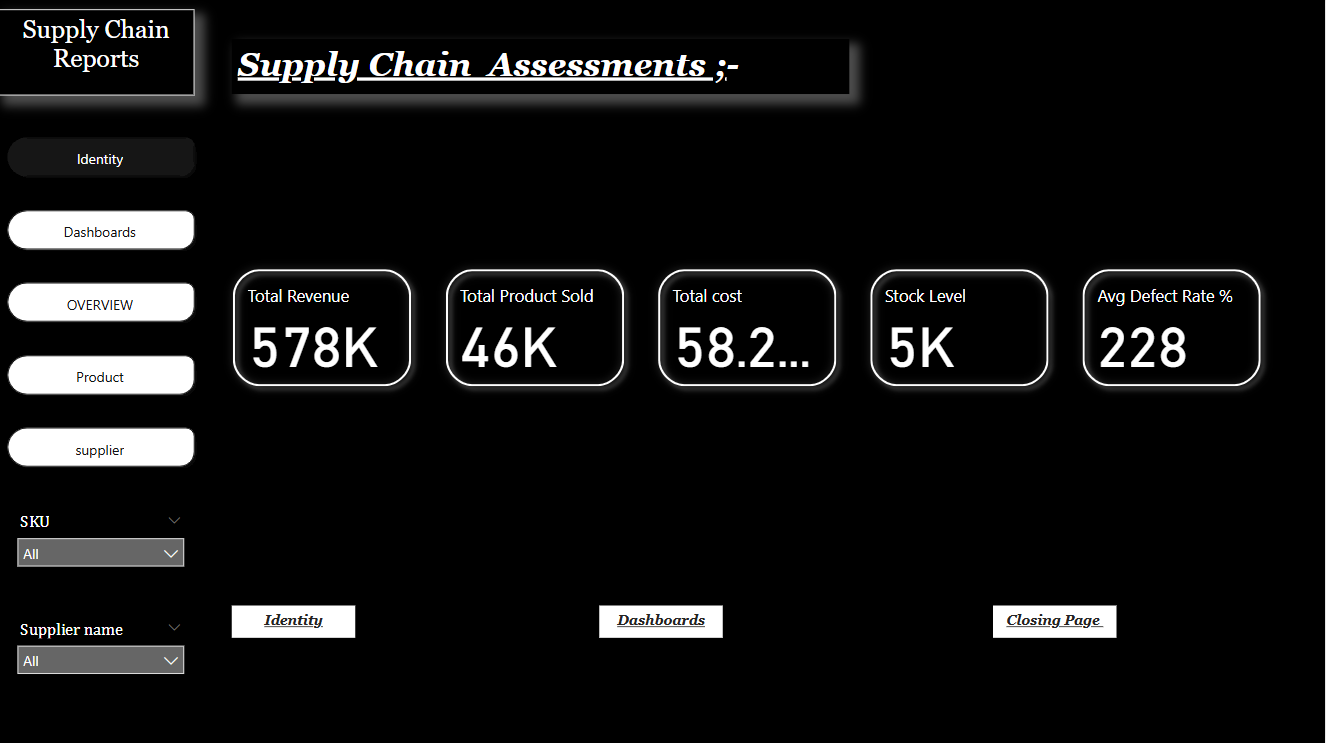

Layout of this report page (visuals, bound fields, positions):
{"tool":"powerbi","page":{"name":"Identity","canvas":[1280,720],"ordinal":0},"visuals":[{"type":"textbox","box":[580.3,586.3,119.4,31.4],"z":1000},{"type":"textbox","box":[960.3,586.3,119.4,31.4],"z":2000},{"type":"textbox","box":[225.6,39.8,596,53.1],"z":3000},{"type":"textbox","box":[225.6,586.3,119.4,31.4],"z":4000},{"type":"cardVisual","fields":{"Data":["_Measure.Total Revenue","_Measure.Total Product Sold","_Measure.Total  cost","_Measure.Stock Level","_Measure.Avg Defect Rate %"]},"box":[209.9,244.9,1029.1,147.2],"z":5000},{"type":"pageNavigator","box":[0,126,199.3,336.3],"z":6000},{"type":"slicer","fields":{"Values":["supply_chain_data.SKU"]},"box":[8.6,491.6,181,78.3],"z":7000},{"type":"slicer","fields":{"Values":["supply_chain_data.Supplier name"]},"box":[8.6,594.3,181,78.3],"z":8000},{"type":"textbox","box":[0,11,189.5,83.2],"z":9000}]}

Visuals, with their boxes in screenshot pixels (x1, y1, x2, y2), scaled from the page's 1280x720 canvas onto the 1326x743 screenshot:
textbox: (601,605,725,637)
textbox: (995,605,1119,637)
textbox: (234,41,851,96)
textbox: (234,605,357,637)
cardVisual - _Measure.Total Revenue x _Measure.Total Product Sold: (217,253,1284,405)
pageNavigator: (0,130,206,477)
slicer - supply_chain_data.SKU: (9,507,196,588)
slicer - supply_chain_data.Supplier name: (9,613,196,694)
textbox: (0,11,196,97)
